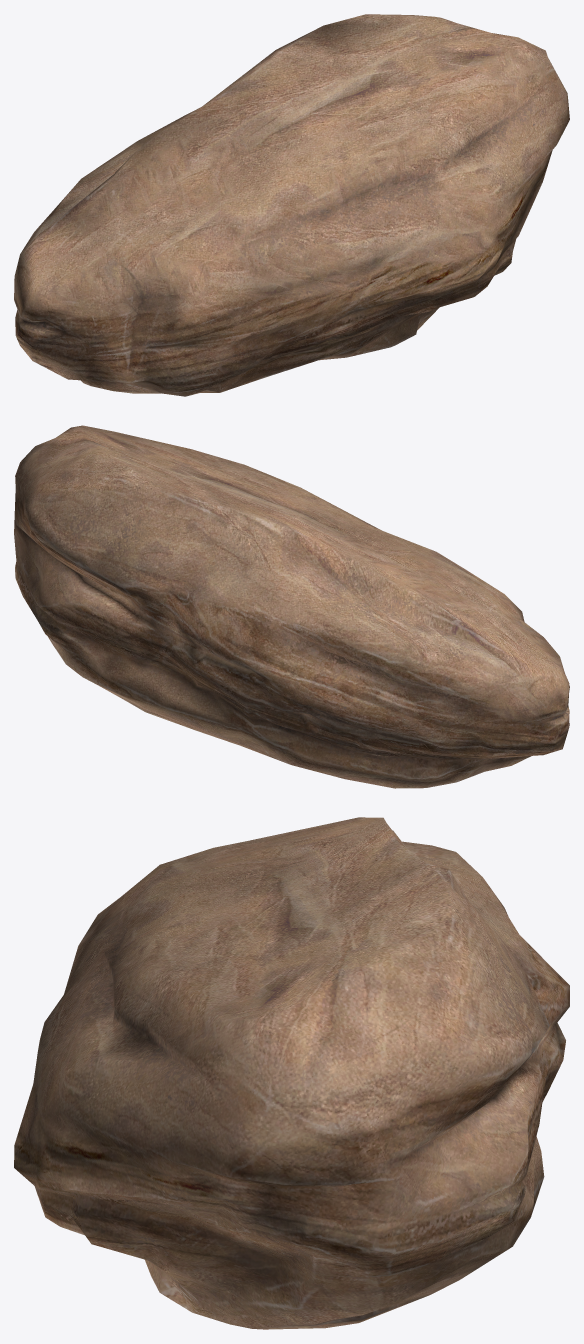
The model's file is rock_sandstone_small_01.dae.
3 views of the same model, one above another, from view 1: azimuth 30°, elevation 25°; view 2: azimuth 150°, elevation 25°; view 3: azimuth 270°, elevation 25° (orthographic). The views are drawn at different scales.
Visible parts, largest first — view 1: rock_sandstone_small_01_lowpoly; view 2: rock_sandstone_small_01_lowpoly; view 3: rock_sandstone_small_01_lowpoly.
Boxes of the visible parts, box(x1,y1,x2,y2) form: rock_sandstone_small_01_lowpoly: box(14, 14, 569, 396); rock_sandstone_small_01_lowpoly: box(14, 425, 569, 788); rock_sandstone_small_01_lowpoly: box(14, 817, 569, 1329).
Bounding box in the file's own units: 3.2 × 1.47 × 1.74.
